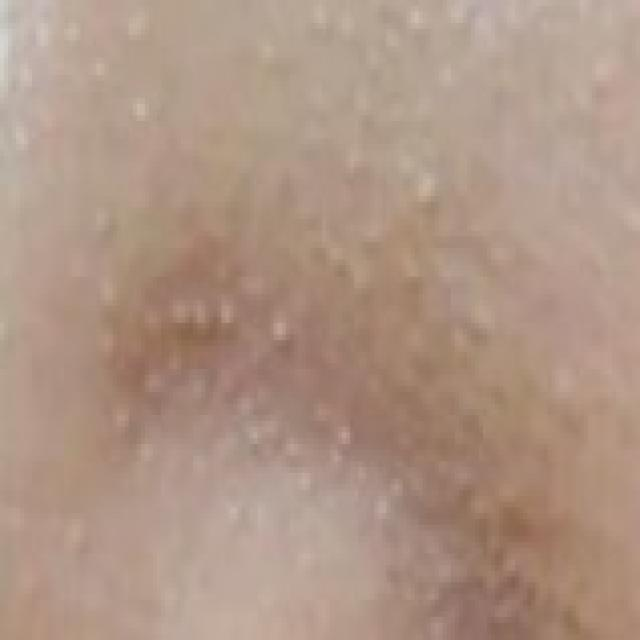whitehead: (59, 249, 484, 609), (259, 26, 611, 370), (8, 0, 176, 245)
